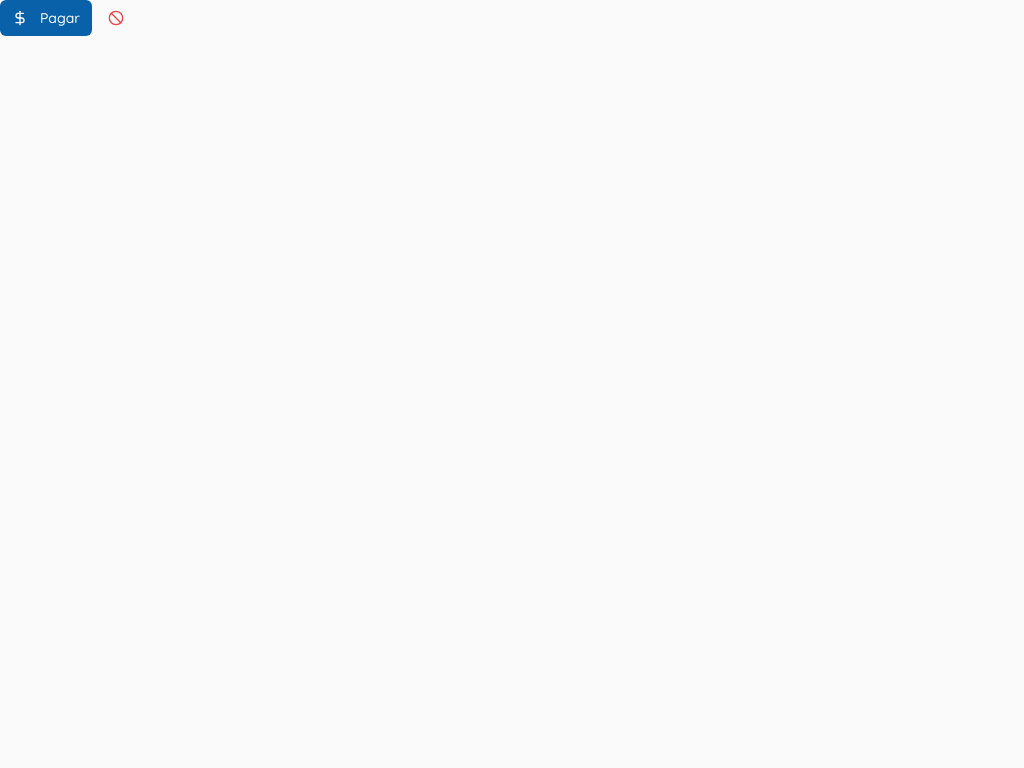
Test case: PayrollPaymentActions: pagar › no acepta una fecha futura
Click the button "Pagar" at (46, 18), box top-left (0, 0), bottom-right (92, 36)
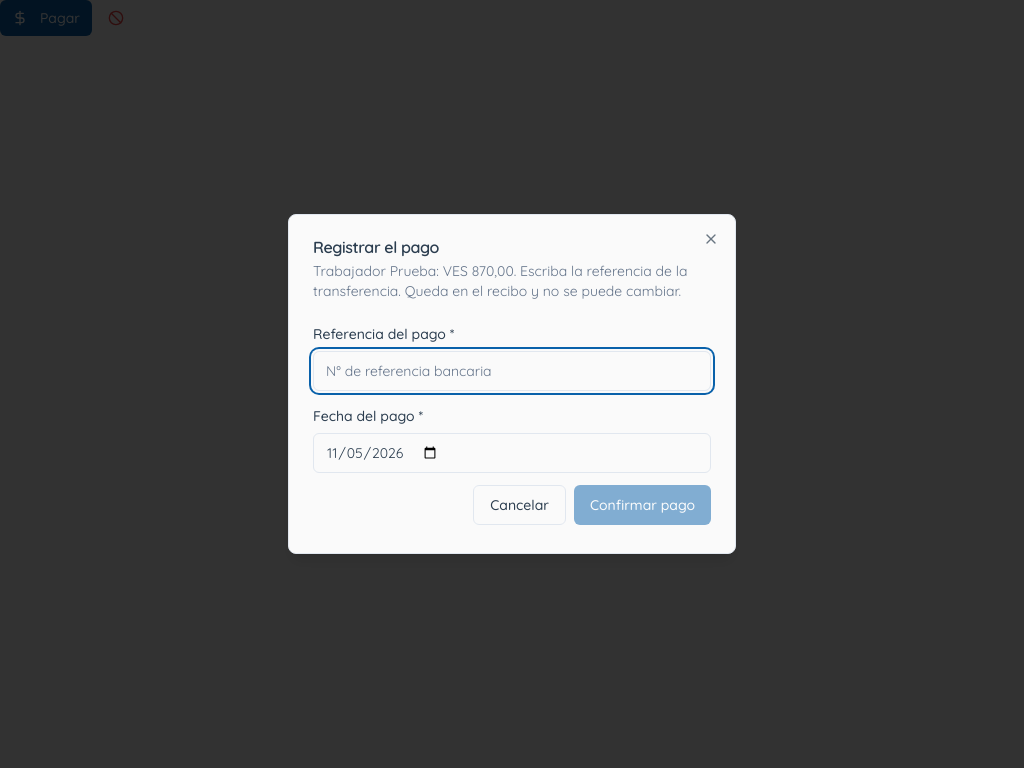
Type "000123" into the field labelled "Referencia del pago *" at (512, 371), box top-left (313, 351), bottom-right (711, 391)
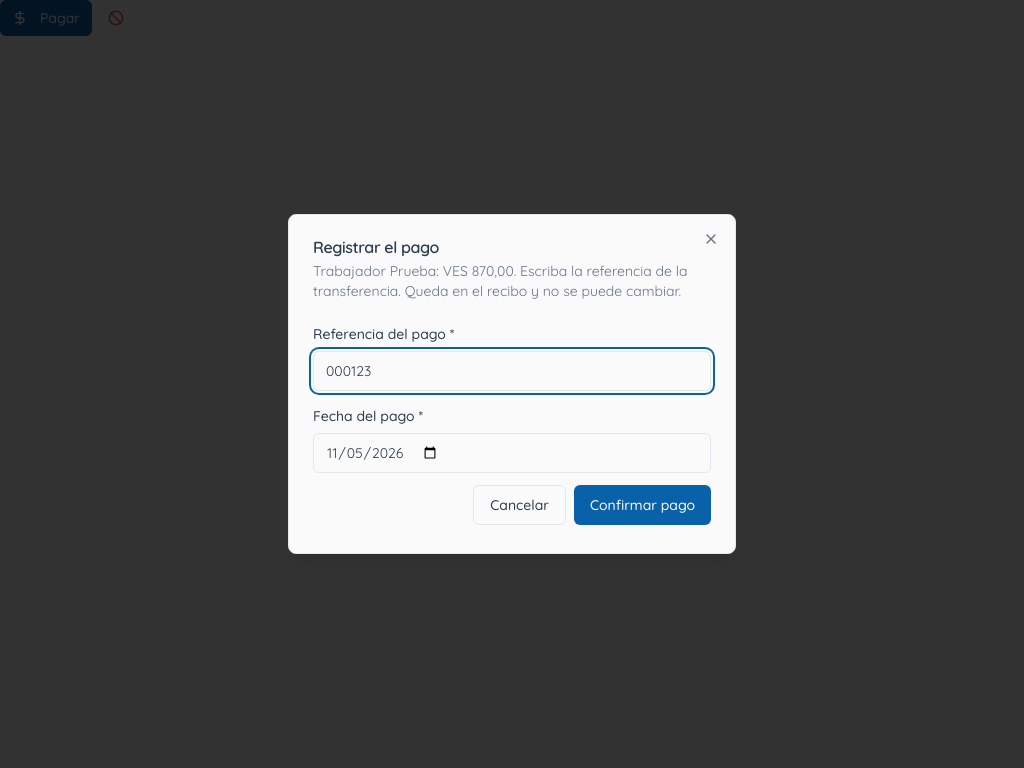
Type "2026-11-06" into the date field labelled "Fecha del pago *" at (512, 453), box top-left (313, 433), bottom-right (711, 473)
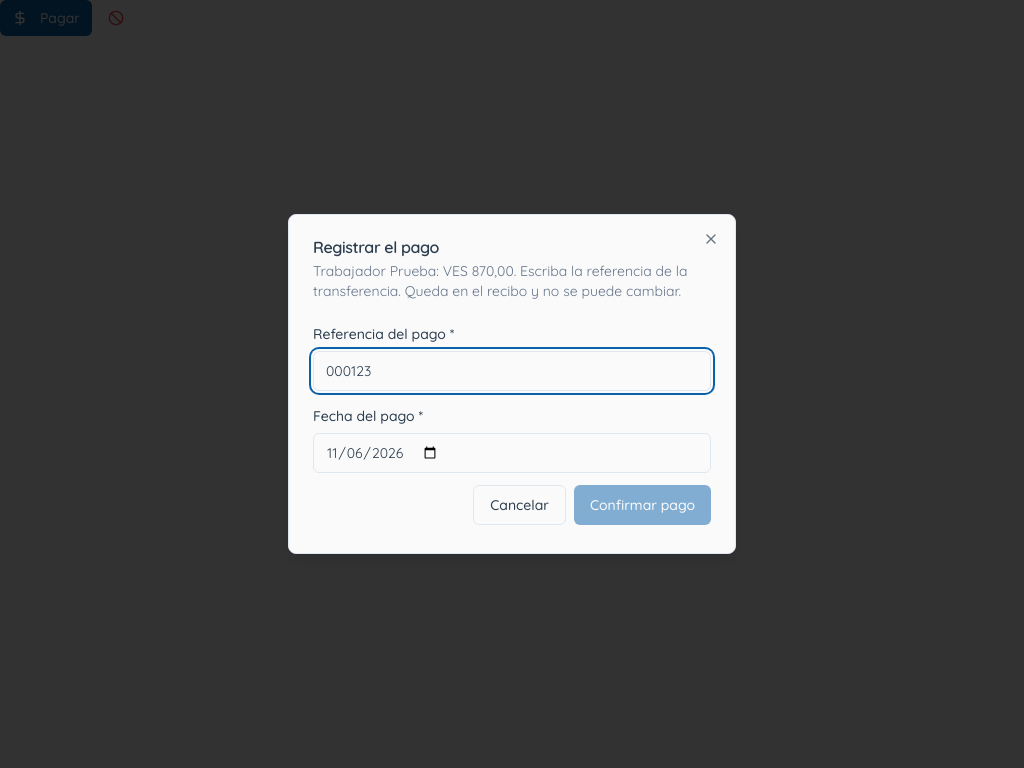
Now the button "Confirmar pago" is disabled, box top-left (574, 485), bottom-right (711, 525)
